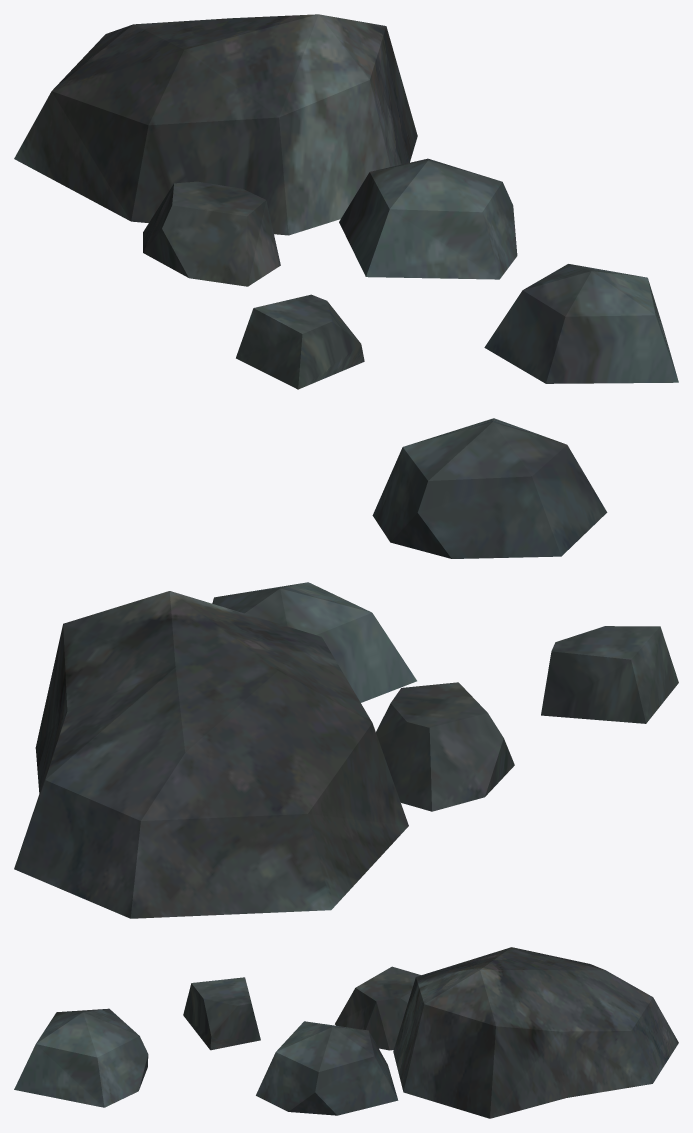
Rendered from object_rubble15.fbx.
3 renders of one model, top to bottom at view 1: azimuth 30°, elevation 25°; view 2: azimuth 150°, elevation 25°; view 3: azimuth 270°, elevation 25°, orthographic. The views are drawn at different scales.
Visible parts, largest first — view 1: obj0.089; view 2: obj0.089; view 3: obj0.089.
Boxes of the visible parts, x1,y1,x2,y2 form: obj0.089: (14,14,678,389); obj0.089: (14,418,678,918); obj0.089: (14,947,678,1118).
Bounding box in the file's own units: 0.9504 × 0.4656 × 2.16.
